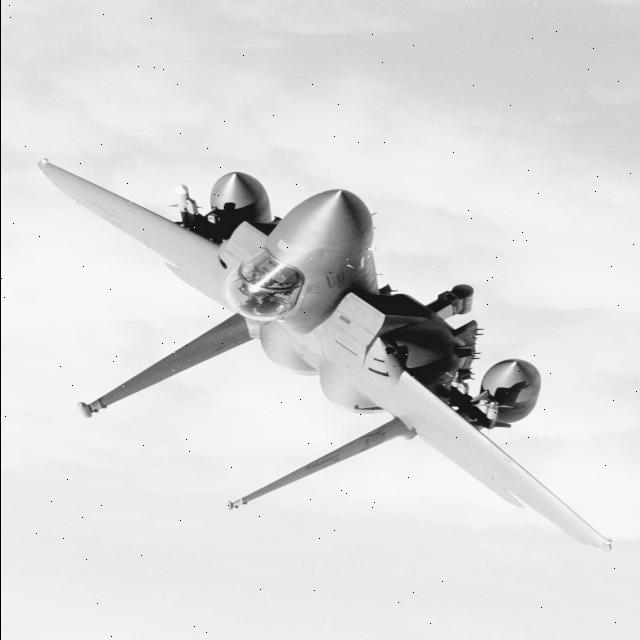F15: (21, 123, 630, 561)
